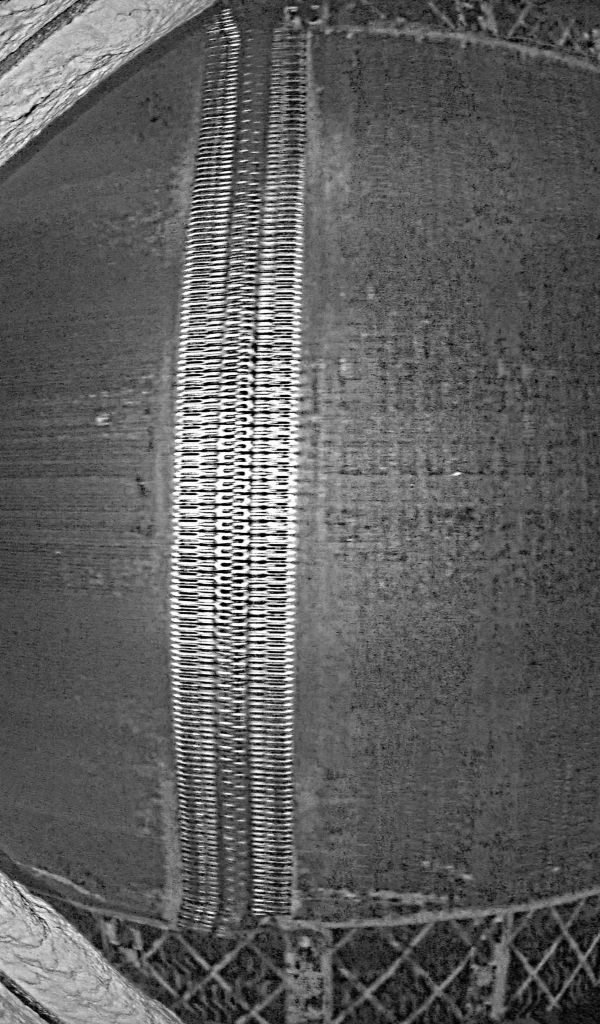splice: (161, 3, 313, 931)
